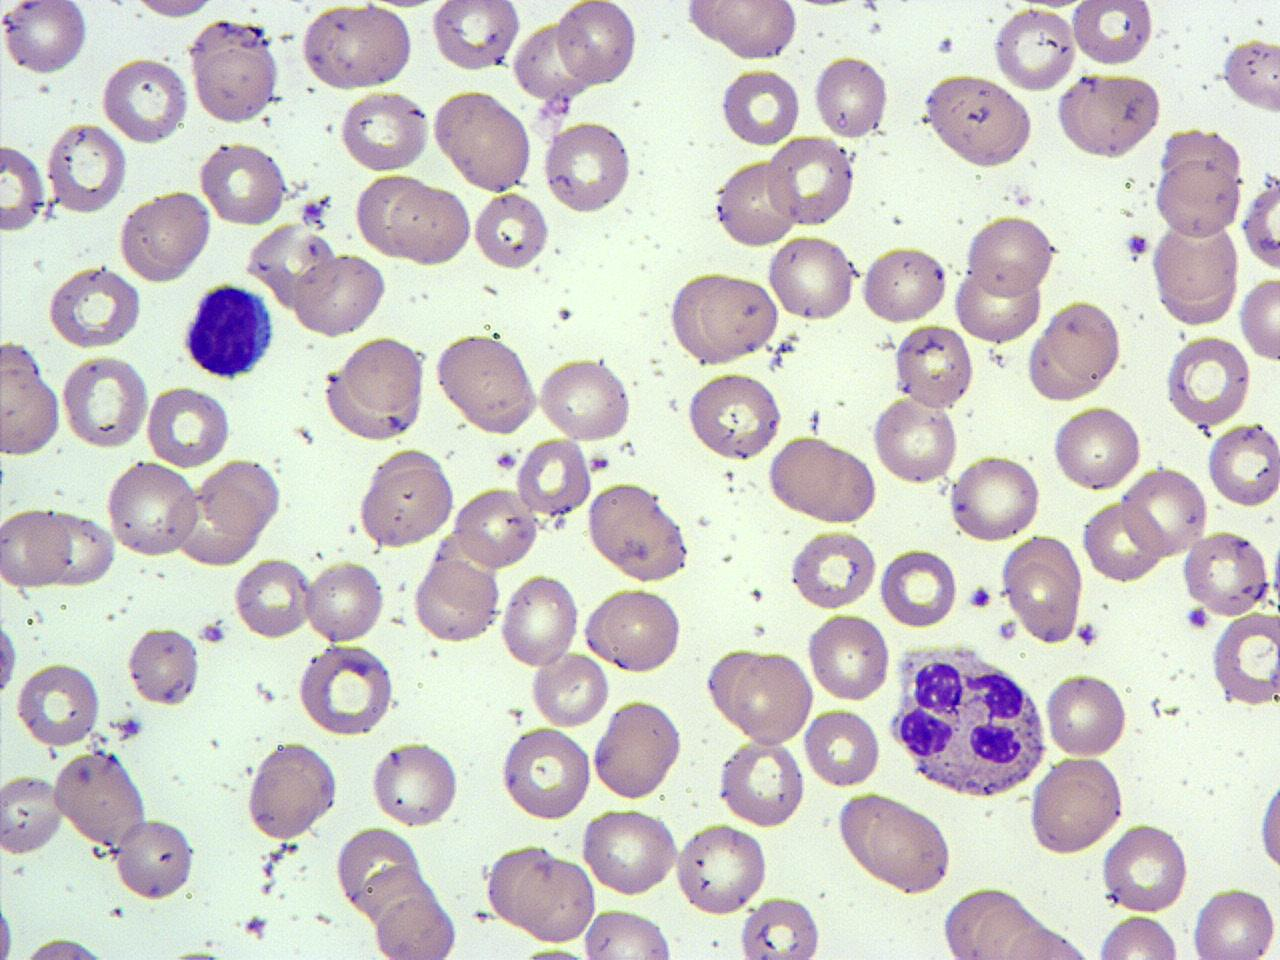Platelets: (109, 715, 146, 739), (195, 618, 227, 644), (1125, 232, 1151, 260), (966, 584, 994, 610), (299, 199, 326, 224), (1184, 604, 1208, 630), (586, 450, 610, 474), (996, 618, 1020, 642), (1075, 621, 1099, 646), (494, 450, 518, 470), (936, 35, 955, 54), (316, 194, 334, 209)
RBC: (834, 789, 954, 894), (920, 72, 1035, 170), (431, 332, 540, 436), (586, 480, 692, 583), (431, 87, 534, 194), (355, 446, 459, 551), (765, 435, 879, 526), (299, 2, 414, 92), (1026, 756, 1126, 857), (243, 739, 340, 842), (187, 19, 281, 125), (103, 460, 202, 560), (578, 804, 680, 899), (51, 750, 151, 848), (296, 642, 398, 738), (1055, 71, 1165, 159), (672, 819, 769, 919), (592, 698, 684, 802), (582, 585, 686, 676), (497, 724, 593, 823), (1000, 535, 1084, 644), (118, 188, 213, 283), (540, 120, 634, 215), (686, 371, 784, 462), (1099, 820, 1191, 915), (59, 353, 150, 450), (535, 356, 635, 444), (324, 358, 425, 444), (948, 454, 1045, 544), (1148, 218, 1240, 311), (368, 739, 462, 830), (46, 263, 144, 350), (716, 736, 807, 828), (765, 134, 856, 227), (99, 55, 191, 146), (1118, 464, 1206, 559), (337, 88, 432, 175), (290, 252, 388, 338), (732, 649, 816, 748), (805, 610, 892, 706), (1181, 528, 1273, 618), (767, 232, 857, 324), (44, 119, 129, 216), (497, 572, 581, 670), (1050, 404, 1142, 493), (1164, 333, 1252, 426), (990, 4, 1078, 93), (411, 557, 501, 644), (197, 141, 288, 227), (513, 852, 597, 946), (15, 659, 102, 749), (1043, 670, 1129, 760), (964, 213, 1058, 294), (788, 526, 878, 612), (482, 837, 561, 933), (714, 158, 798, 248), (871, 398, 958, 484), (953, 262, 1045, 344), (0, 344, 65, 460), (858, 243, 948, 325), (1153, 158, 1243, 240), (1042, 296, 1124, 386), (144, 384, 234, 466), (352, 171, 435, 258), (891, 323, 975, 409), (554, 0, 638, 87), (304, 558, 386, 646), (452, 485, 537, 569), (388, 183, 472, 268), (811, 52, 891, 142), (233, 554, 312, 642), (684, 0, 800, 61), (0, 0, 90, 78), (1210, 609, 1280, 709), (1204, 418, 1280, 510), (720, 65, 802, 148), (200, 456, 284, 537), (342, 333, 426, 414), (115, 816, 195, 902), (1189, 883, 1277, 960), (471, 190, 550, 273), (430, 0, 522, 73), (1084, 496, 1162, 582), (700, 274, 780, 357), (668, 270, 740, 362), (528, 650, 610, 730), (802, 706, 882, 788), (514, 435, 592, 518), (878, 547, 957, 627), (127, 624, 201, 710), (0, 506, 72, 590), (38, 510, 114, 588), (736, 894, 823, 960), (1069, 0, 1153, 69), (0, 771, 66, 855), (372, 897, 460, 960), (580, 904, 674, 959), (1221, 36, 1279, 115), (1240, 166, 1280, 275), (0, 141, 47, 233), (1092, 912, 1180, 958), (1236, 274, 1280, 364), (14, 934, 125, 960), (1253, 774, 1279, 878), (127, 0, 224, 23), (0, 610, 19, 704)
WBC: (888, 638, 1052, 803), (180, 280, 276, 381)
